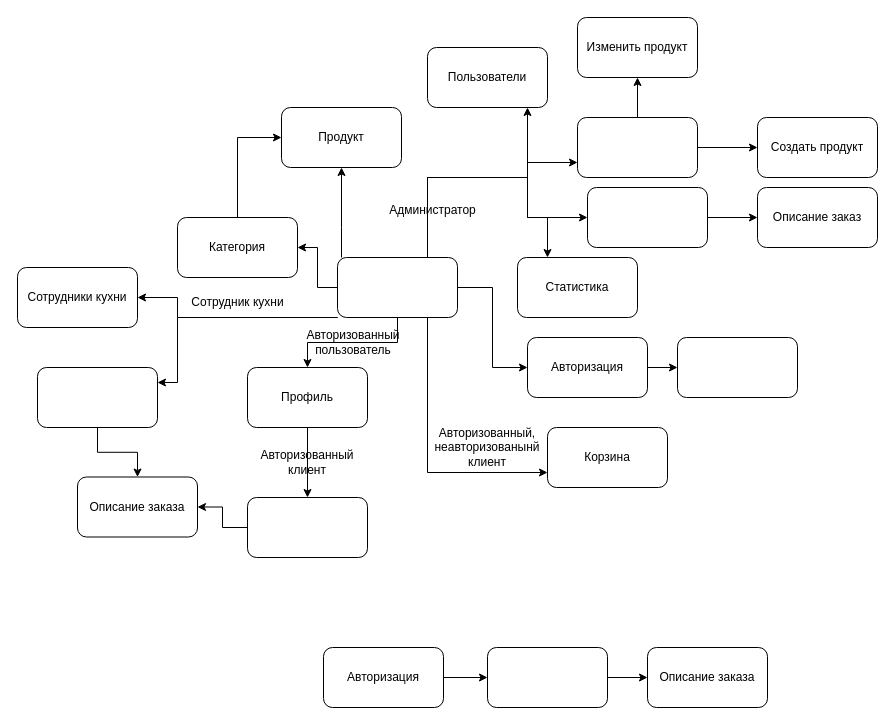
This 895x725 diagram has some shape labels left out. The centre of each missing label's shape, as x and y in pixels:
Главная страница: the point at 397,287
Заказы: the point at 647,217
Заказы кухни: the point at 97,397
История заказов клиента: the point at 307,527
История заказов курьера: the point at 547,677
Продукты: the point at 637,147
Регистрация: the point at 737,367
